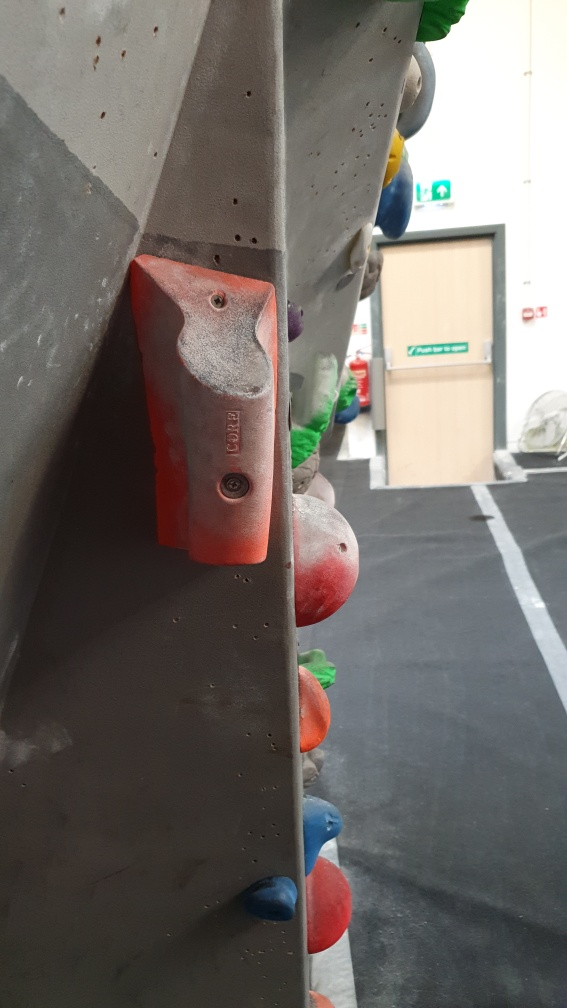Pinch: (128, 251, 287, 570)
Sloper: (288, 486, 363, 631), (298, 845, 356, 955)
